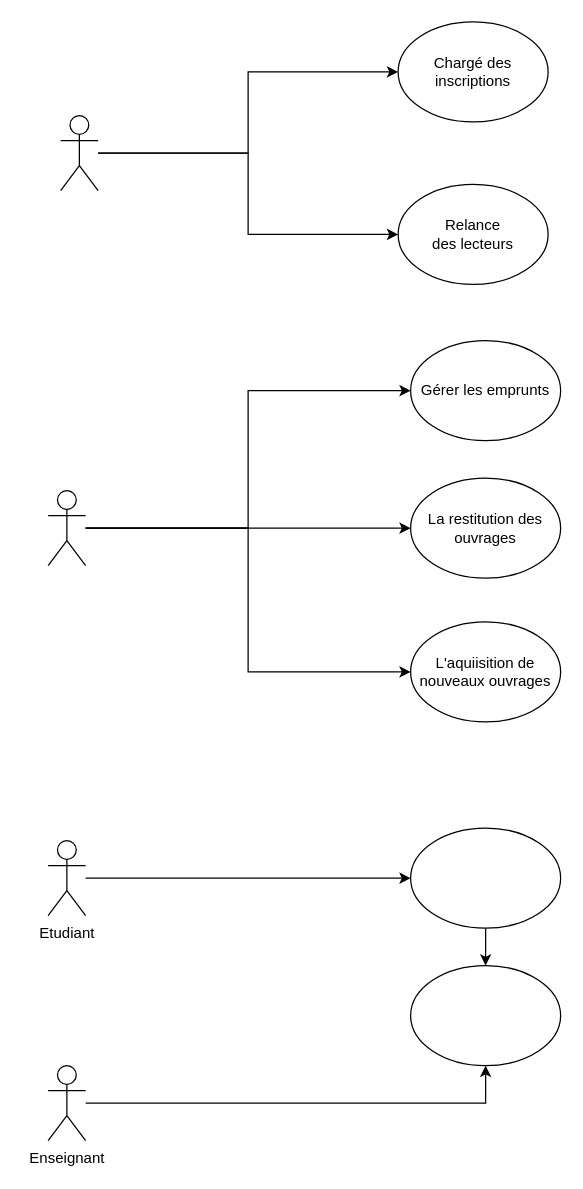
This 583x1189 diagram has some shape labels left out. Here are the shapes that lost their labels. From the top down, the centre of each, then its label:
[78,152]: Gestionnaire
[66,527]: Bibliothécaire
[485,877]: Acquitter somme forfaitaire
[485,1015]: Accès au bibliothèque
